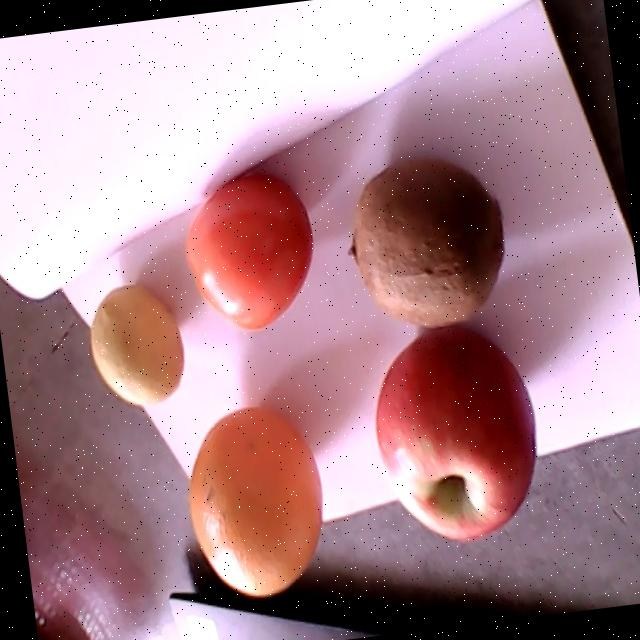apple: (373, 324, 535, 540)
kiwi: (344, 153, 504, 326)
lemon: (89, 282, 183, 404)
orange: (188, 403, 322, 596)
tomato: (184, 169, 311, 329)
